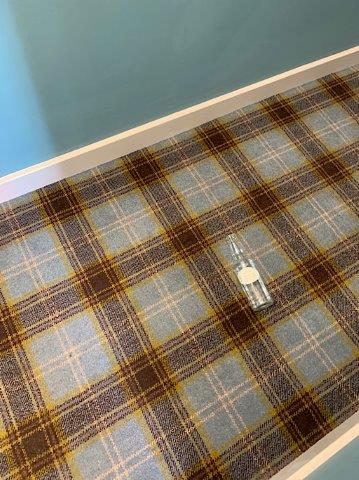botolkaca: (229, 234, 271, 311)
